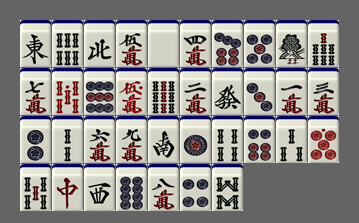0m: (116, 68, 147, 115)
0p: (308, 116, 339, 163)
0s: (52, 68, 83, 115)
1m: (276, 68, 307, 115)
1p: (180, 116, 211, 163)
1s: (276, 20, 307, 67)
1z: (20, 20, 51, 67)
2m: (180, 68, 211, 115)
2p: (20, 116, 51, 163)
2s: (52, 116, 83, 163)
2z: (148, 116, 179, 163)
3m: (308, 68, 339, 115)
3p: (244, 68, 275, 115)
3s: (276, 116, 307, 163)
3z: (84, 164, 115, 211)
4m: (180, 20, 211, 67)
4p: (180, 164, 211, 211)
4s: (212, 116, 243, 163)
4z: (84, 20, 115, 67)
5m: (116, 20, 147, 67)
5p: (244, 20, 275, 67)
5s: (20, 164, 51, 211)
5z: (148, 20, 179, 67)
6m: (84, 116, 115, 163)
6p: (244, 116, 275, 163)
6s: (52, 20, 83, 67)
6z: (212, 68, 243, 115)
7m: (20, 68, 51, 115)
7p: (212, 20, 243, 67)
7s: (308, 20, 339, 67)
7z: (52, 164, 83, 211)
8m: (148, 164, 179, 211)
8p: (116, 164, 147, 211)
8s: (212, 164, 243, 211)
9m: (116, 116, 147, 163)
9p: (84, 68, 115, 115)
9s: (148, 68, 179, 115)
